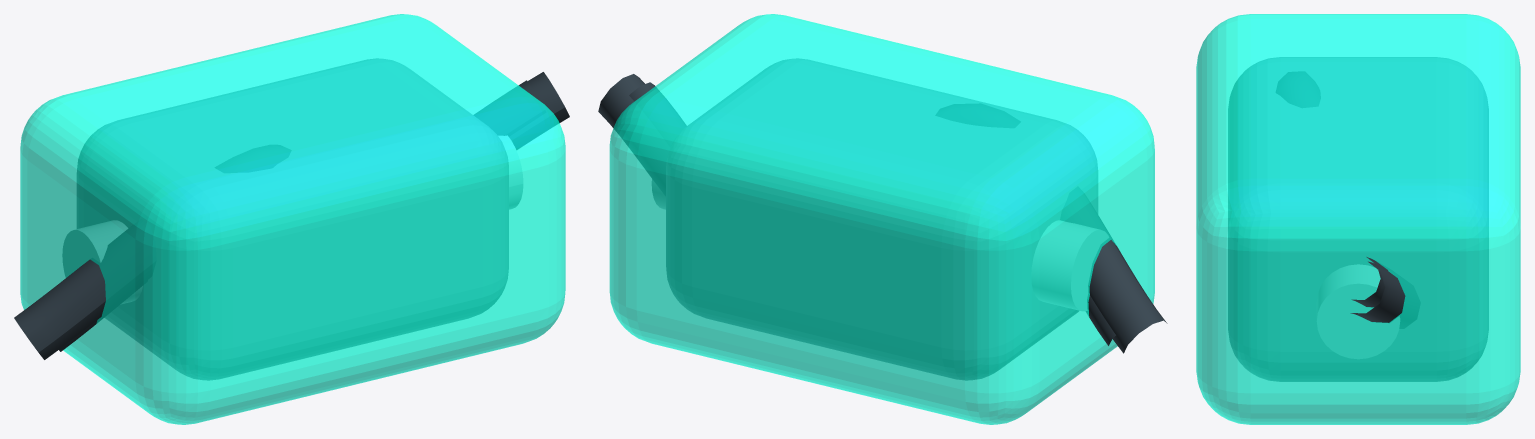
The model's file is g4ed_crankcase_ventilation.glb.
The picture shows the model from 3 angles, left to right: view 1: azimuth 30°, elevation 25°; view 2: azimuth 150°, elevation 25°; view 3: azimuth 270°, elevation 25°; orthographic projection.
Visible parts, largest first — view 1: asset_mesh__g4ed_216__reference_body, asset_mesh__g4ed_213__reference_body, asset_mesh__g4ed_215__reference_flow_path, asset_mesh__g4ed_213__reference_axis, asset_mesh__g4ed_214__reference_flow_path; view 2: asset_mesh__g4ed_216__reference_body, asset_mesh__g4ed_213__reference_body, asset_mesh__g4ed_215__reference_flow_path, asset_mesh__g4ed_213__reference_axis, asset_mesh__g4ed_214__reference_flow_path; view 3: asset_mesh__g4ed_216__reference_body, asset_mesh__g4ed_213__reference_body, asset_mesh__g4ed_213__reference_axis, asset_mesh__g4ed_215__reference_flow_path, asset_mesh__g4ed_214__reference_flow_path.
Boxes of the visible parts, bbox=[...] form: asset_mesh__g4ed_216__reference_body: bbox=[20, 14, 565, 424]; asset_mesh__g4ed_213__reference_body: bbox=[77, 58, 508, 380]; asset_mesh__g4ed_215__reference_flow_path: bbox=[14, 72, 569, 359]; asset_mesh__g4ed_213__reference_axis: bbox=[62, 135, 522, 303]; asset_mesh__g4ed_214__reference_flow_path: bbox=[59, 80, 545, 351]; asset_mesh__g4ed_216__reference_body: bbox=[609, 14, 1154, 424]; asset_mesh__g4ed_213__reference_body: bbox=[666, 58, 1097, 380]; asset_mesh__g4ed_215__reference_flow_path: bbox=[598, 74, 1167, 353]; asset_mesh__g4ed_213__reference_axis: bbox=[652, 179, 1108, 310]; asset_mesh__g4ed_214__reference_flow_path: bbox=[629, 82, 1115, 345]; asset_mesh__g4ed_216__reference_body: bbox=[1196, 14, 1520, 424]; asset_mesh__g4ed_213__reference_body: bbox=[1228, 57, 1488, 381]; asset_mesh__g4ed_213__reference_axis: bbox=[1317, 264, 1399, 358]; asset_mesh__g4ed_215__reference_flow_path: bbox=[1276, 71, 1420, 328]; asset_mesh__g4ed_214__reference_flow_path: bbox=[1351, 257, 1401, 307].
Size of the model in its own units: 2.1 by 0.8774 by 1.07.
